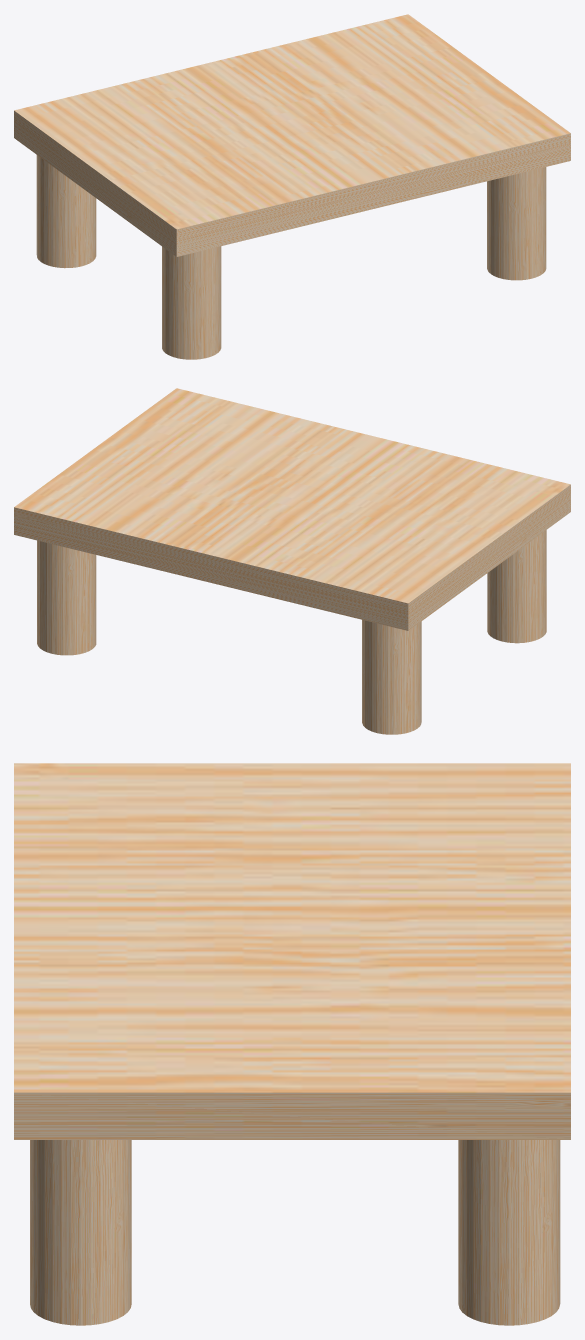
Rendered from table.fbx.
The picture shows the model from 3 angles, top to bottom: view 1: azimuth 30°, elevation 25°; view 2: azimuth 150°, elevation 25°; view 3: azimuth 270°, elevation 25°; orthographic projection. The views are drawn at different scales.
Parts seen in each view (by area): view 1: Cube, Cylinder.004, Cylinder.001, Cylinder.002; view 2: Cube, Cylinder.002, Cylinder, Cylinder.004; view 3: Cube, Cylinder, Cylinder.001.
Part boxes in pixels (box(x1,y1,x2,y2)): Cube: box(14, 14, 570, 256); Cylinder.004: box(162, 246, 221, 359); Cylinder.001: box(487, 167, 546, 280); Cylinder.002: box(36, 155, 96, 268); Cube: box(14, 388, 570, 630); Cylinder.002: box(362, 620, 421, 734); Cylinder: box(37, 540, 96, 655); Cylinder.004: box(487, 530, 546, 643); Cube: box(14, 763, 570, 1139); Cylinder: box(458, 1140, 560, 1325); Cylinder.001: box(30, 1140, 131, 1325).
Bounding box in the file's own units: 729 × 248 × 521.
